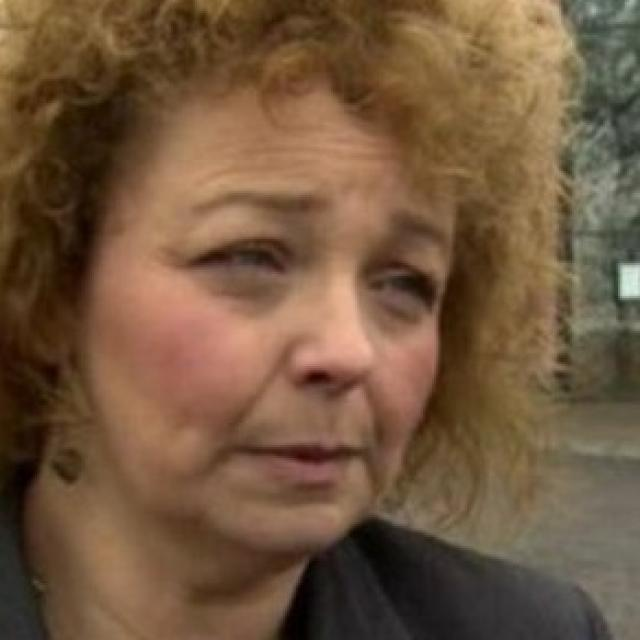Depress: (84, 71, 467, 573)
